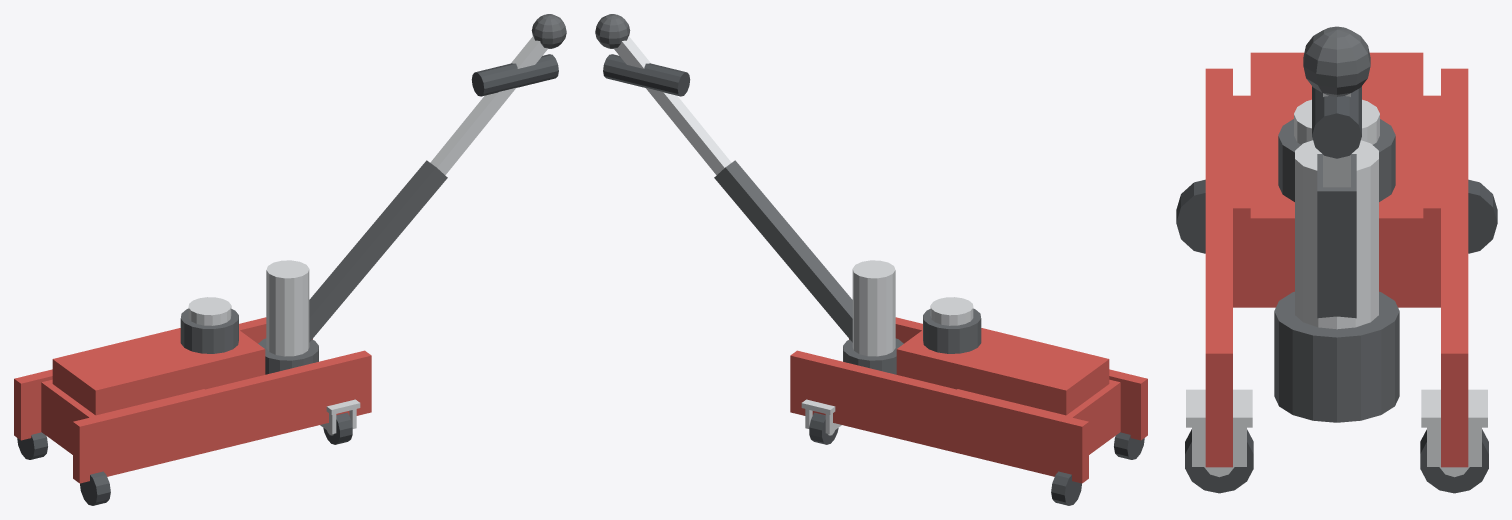
Rendered from car-repair-garage-and-mot-workshop-car-repair-garage-a-0b386061__34010.glb.
3 renders of one model, left to right at view 1: azimuth 30°, elevation 25°; view 2: azimuth 150°, elevation 25°; view 3: azimuth 270°, elevation 25°, orthographic. The views are drawn at different scales.
Parts seen in each view (by area): view 1: car-repair-garage-and-mot-workshop-trolley-jack, jack-handle/charcoal, jack-handle/steel, jack-handle/rubber; view 2: car-repair-garage-and-mot-workshop-trolley-jack, jack-handle/charcoal, jack-handle/steel, jack-handle/rubber; view 3: car-repair-garage-and-mot-workshop-trolley-jack, jack-handle/charcoal, jack-handle/rubber, jack-handle/steel.
Part boxes in pixels (x1,y1,x2,y2): car-repair-garage-and-mot-workshop-trolley-jack: (14, 260, 371, 505); jack-handle/charcoal: (309, 14, 566, 342); jack-handle/steel: (430, 36, 548, 175); jack-handle/rubber: (471, 54, 558, 96); car-repair-garage-and-mot-workshop-trolley-jack: (790, 260, 1147, 505); jack-handle/charcoal: (595, 14, 852, 342); jack-handle/steel: (613, 36, 731, 175); jack-handle/rubber: (603, 54, 690, 96); car-repair-garage-and-mot-workshop-trolley-jack: (1176, 52, 1497, 493); jack-handle/charcoal: (1303, 26, 1370, 318); jack-handle/rubber: (1312, 86, 1361, 158); jack-handle/steel: (1323, 93, 1350, 187).
Size of the model in its own units: 1.53 by 0.975 by 0.41.
